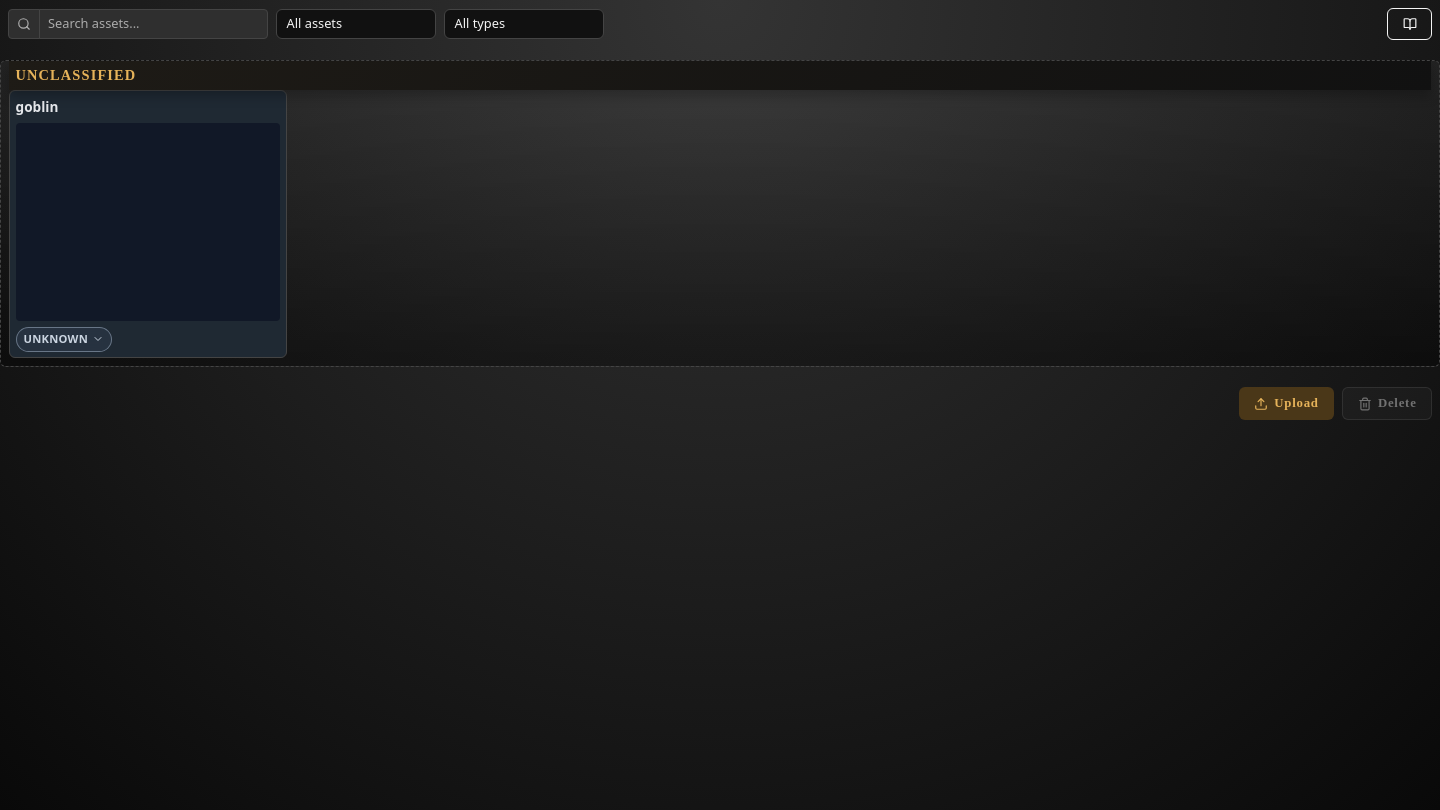
Scenario: AssetsPanelContent thumbnail loading (UI) › toggles classification without selecting the tile and restores focus on Escape
Click the button "Unknown" at (64,339), box [16, 327, 112, 352]
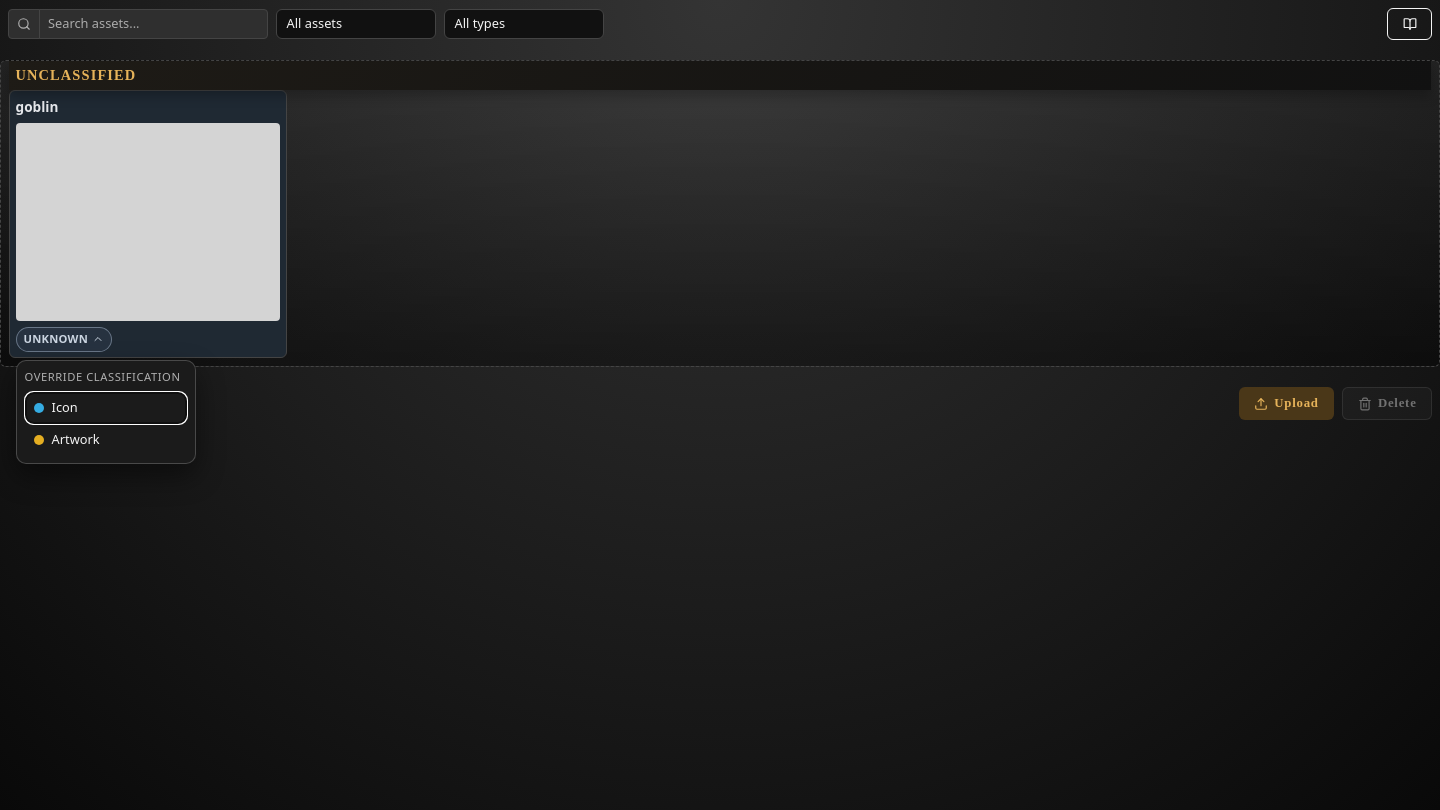
Now the button "Unknown" is expanded
Click the button "Unknown" at (64,339), box [16, 327, 112, 352]
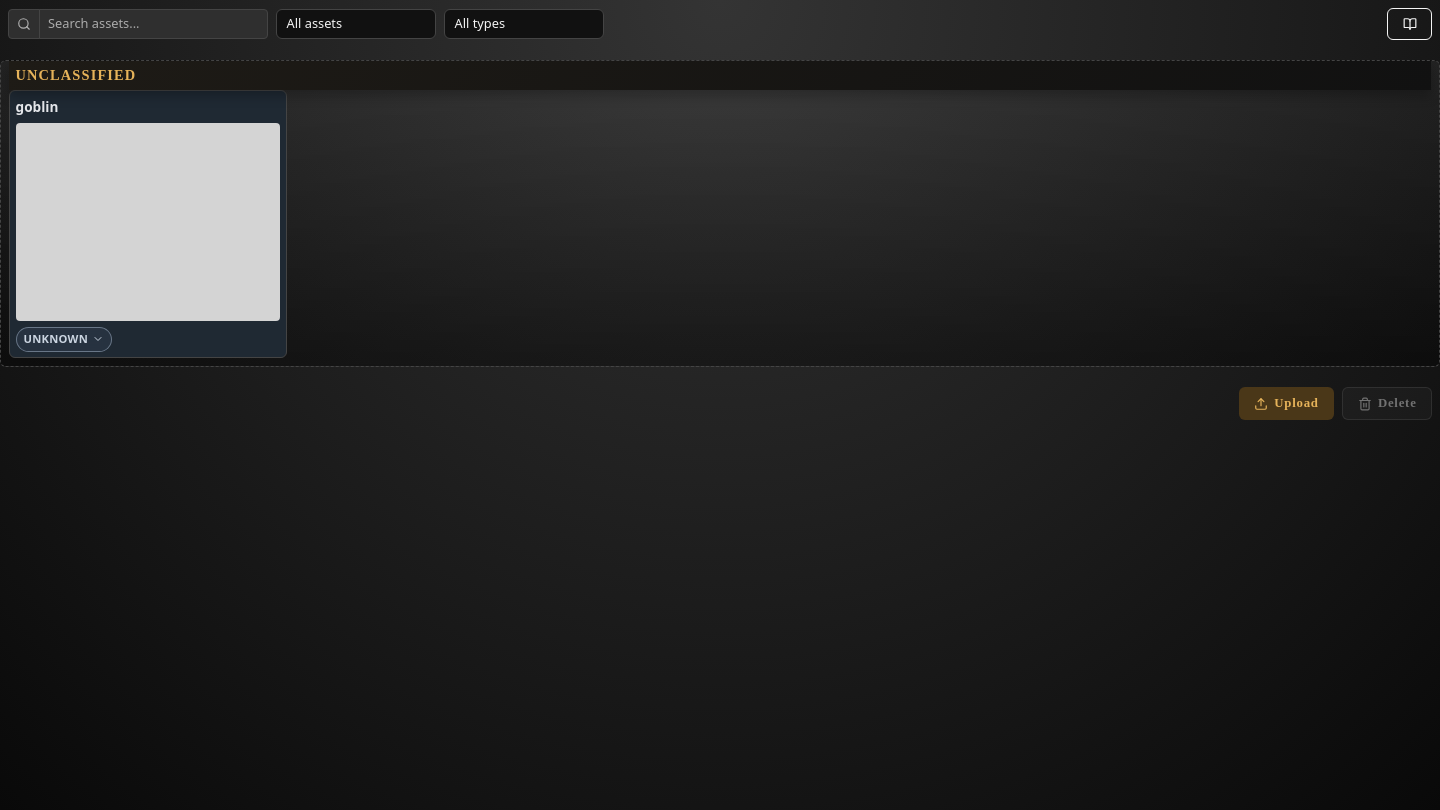
Now the button "Unknown" is collapsed
Press Space in the button "Unknown", box [16, 327, 112, 352]
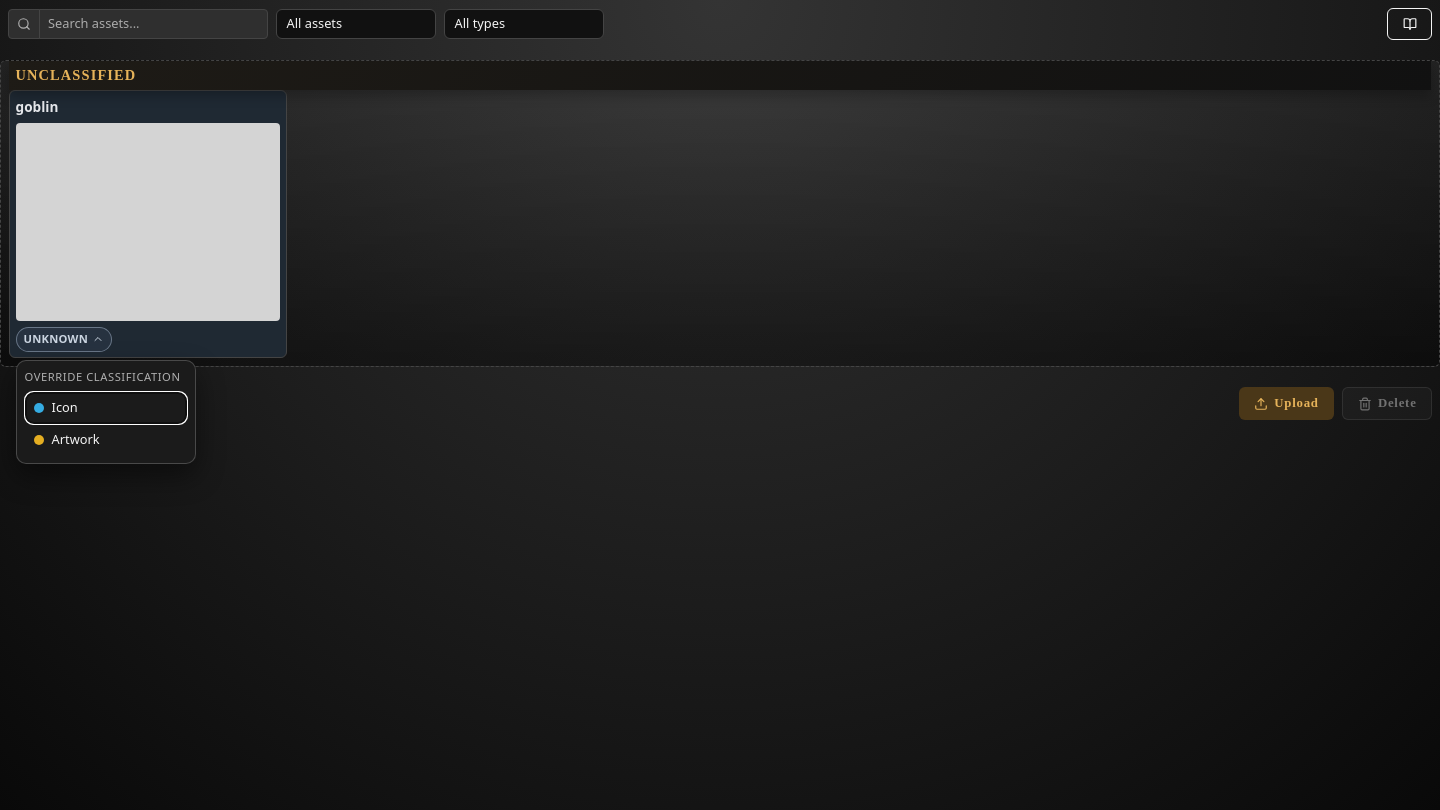
Now the dialog is shown, box [16, 360, 196, 464]
Press Escape in the button "Icon", box [25, 392, 187, 424]
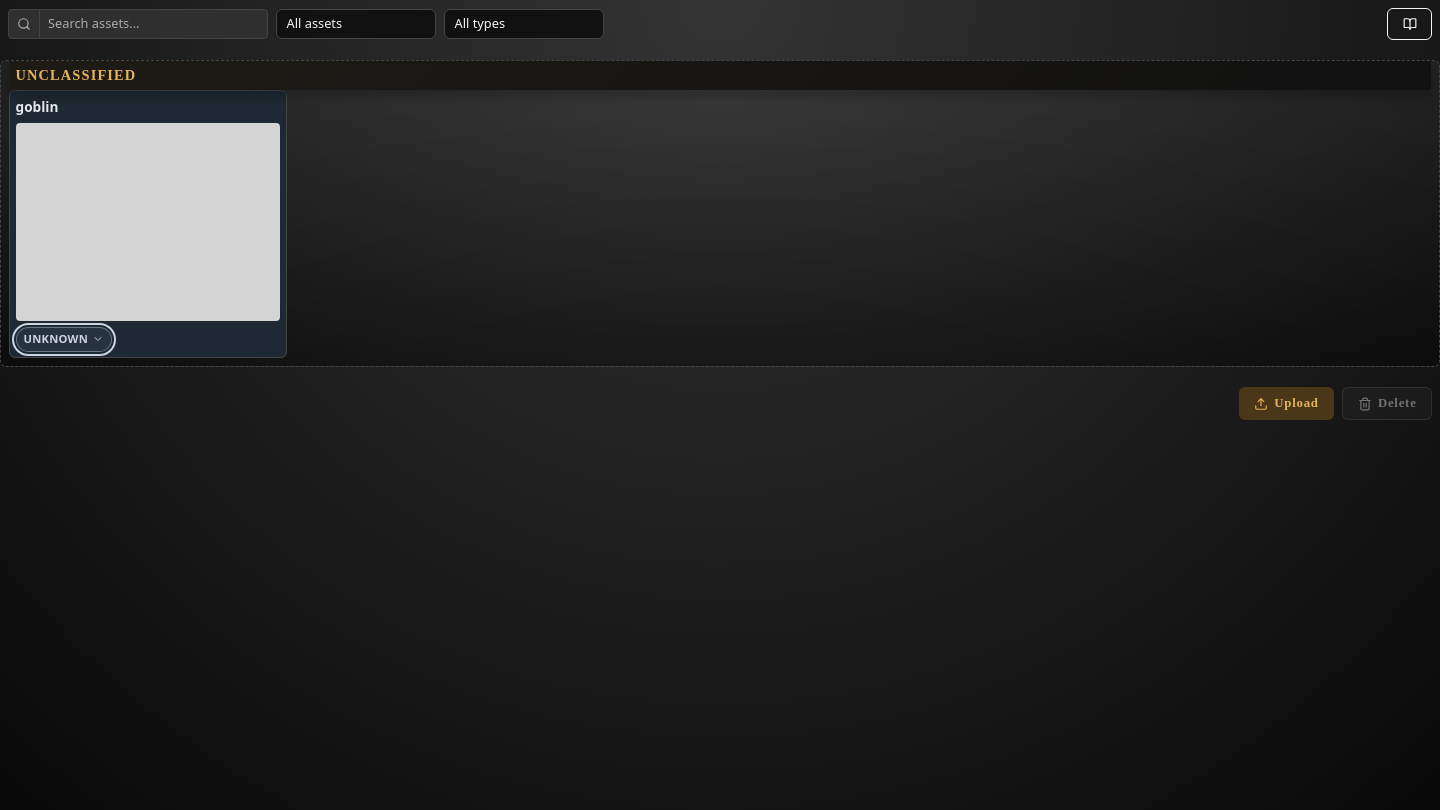
Now the button "Unknown" is collapsed
Press Enter in the button "Unknown", box [16, 327, 112, 352]
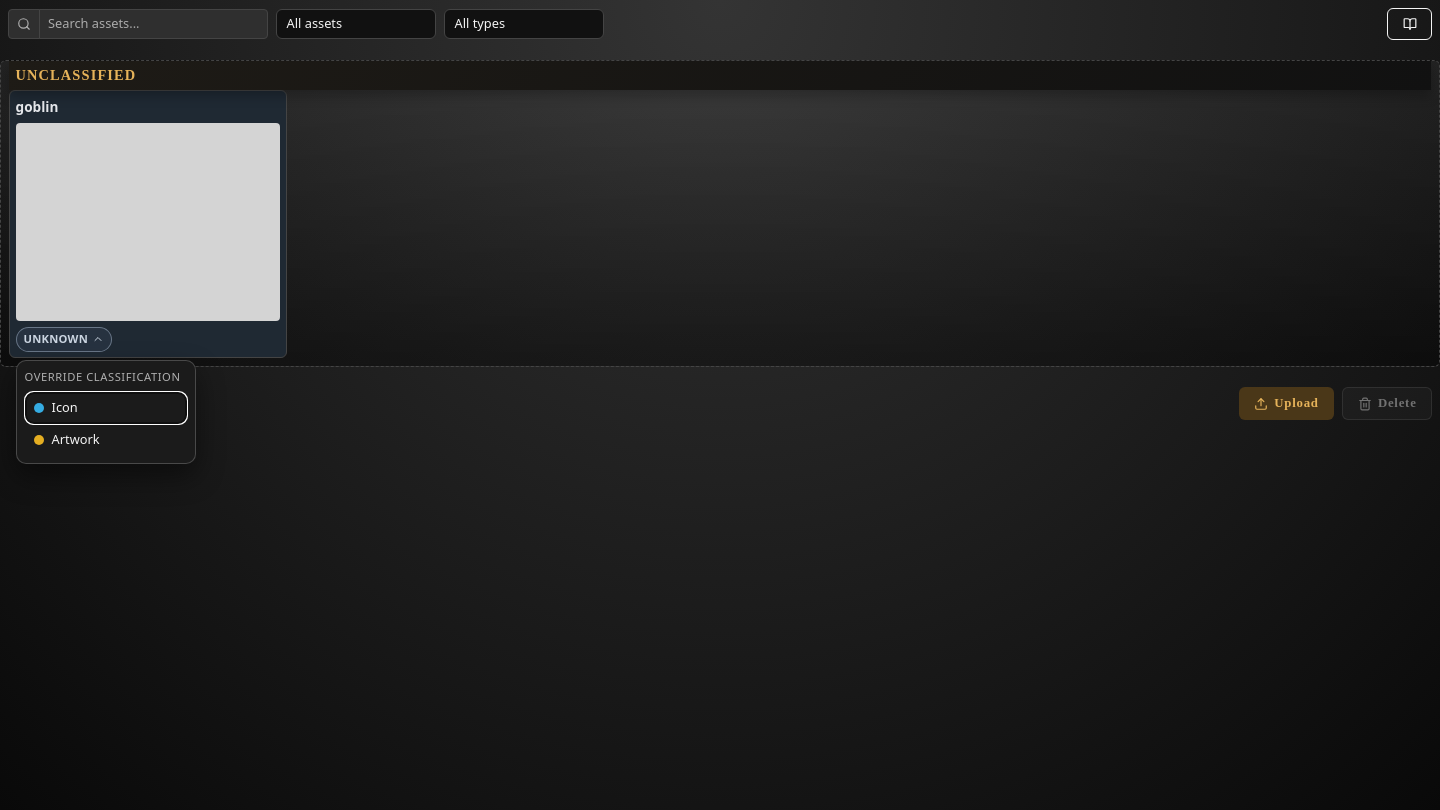
Press the mouse on the element that starts with "All assets" at (720,405), box [0, 0, 1439, 809]
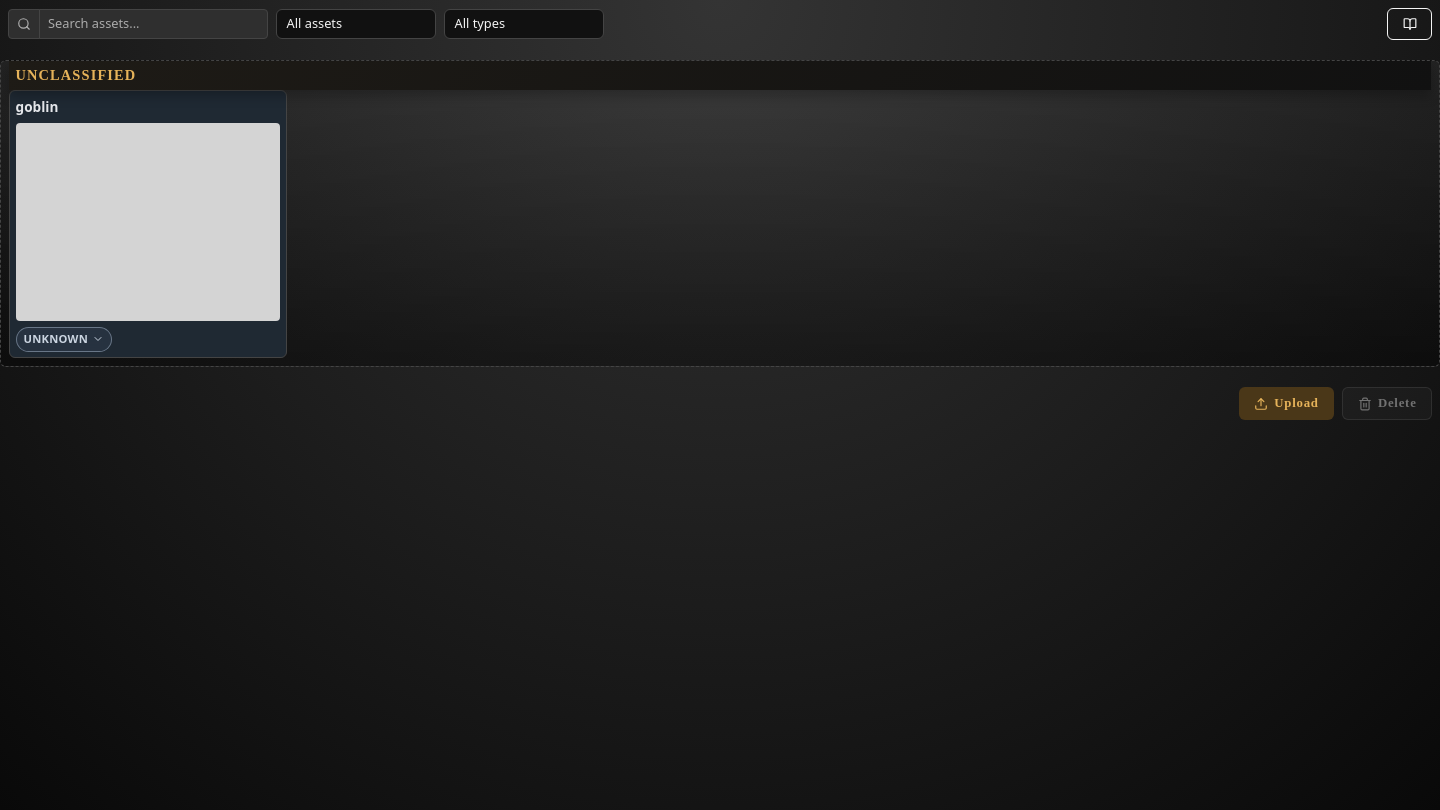
Now the button "Unknown" is collapsed, box [16, 327, 112, 352]
